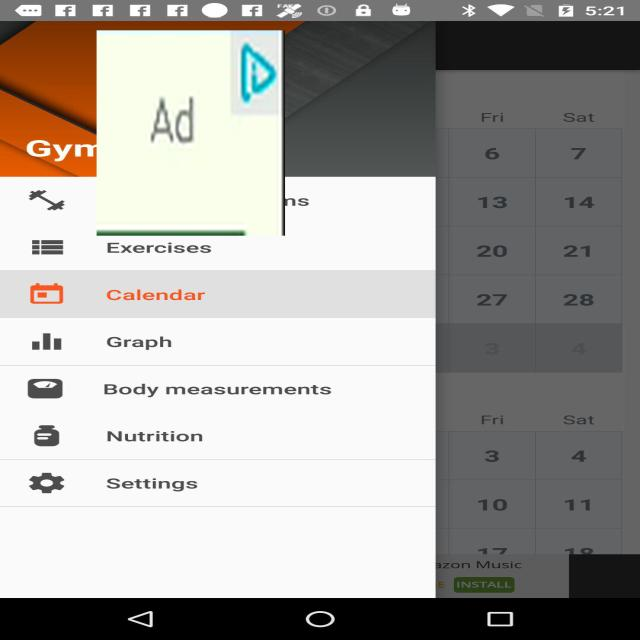sneaking: (97, 30, 285, 236)
